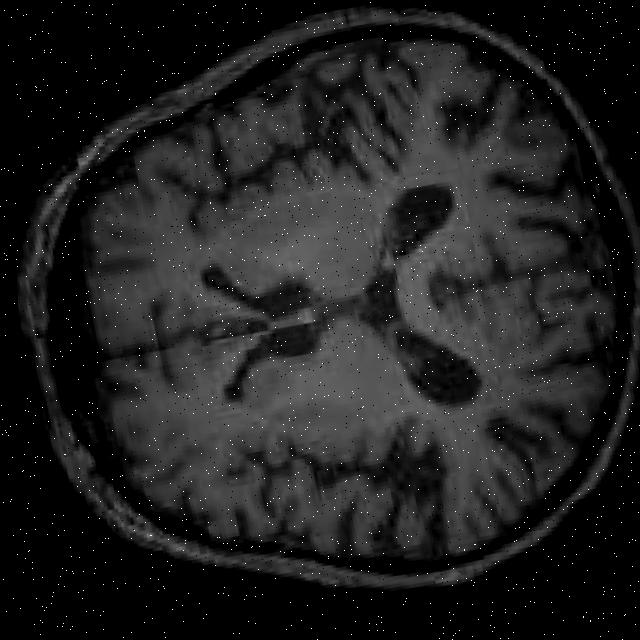NoTumor: (23, 0, 640, 628)
